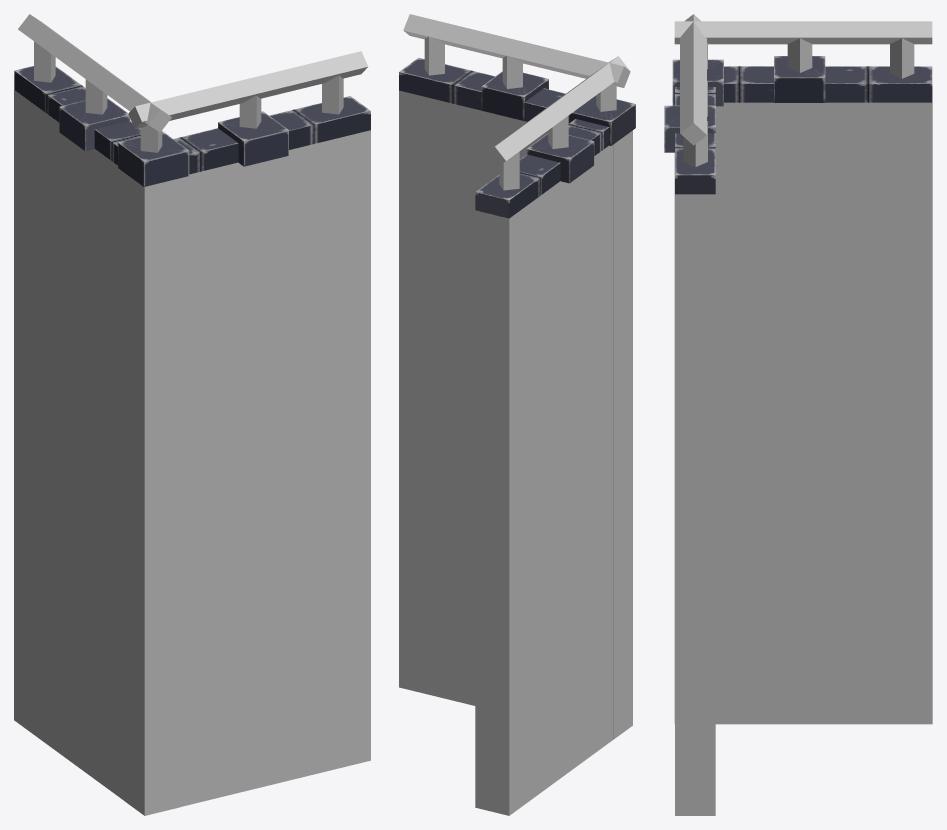
The model's file is edge_inner_corner.FBX.
The picture shows the model from 3 angles, left to right: view 1: azimuth 30°, elevation 25°; view 2: azimuth 150°, elevation 25°; view 3: azimuth 270°, elevation 25°; orthographic projection. The views are drawn at different scales.
Visible parts, largest first — view 1: outer_corner002, outer_corner_rand002; view 2: outer_corner002, outer_corner_rand002; view 3: outer_corner002, outer_corner_rand002.
Boxes of the visible parts, bbox=[...] form: outer_corner002: bbox=[14, 14, 370, 815]; outer_corner_rand002: bbox=[14, 66, 370, 186]; outer_corner002: bbox=[399, 14, 632, 815]; outer_corner_rand002: bbox=[399, 57, 635, 218]; outer_corner002: bbox=[674, 14, 932, 815]; outer_corner_rand002: bbox=[664, 56, 932, 194].
Bounding box in the file's own units: 52.11 × 149 × 52.08.
